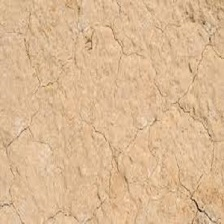clay_soil: (12, 14, 216, 211)
